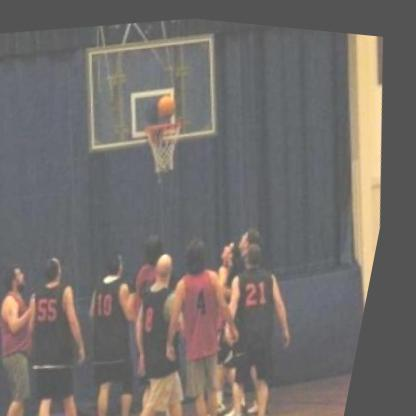basketball: (154, 84, 186, 118)
